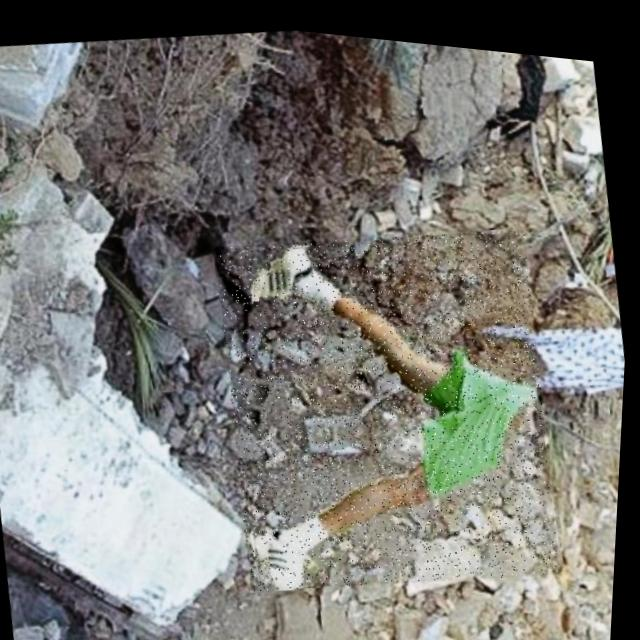Person in Rubble: (203, 193, 578, 610)
